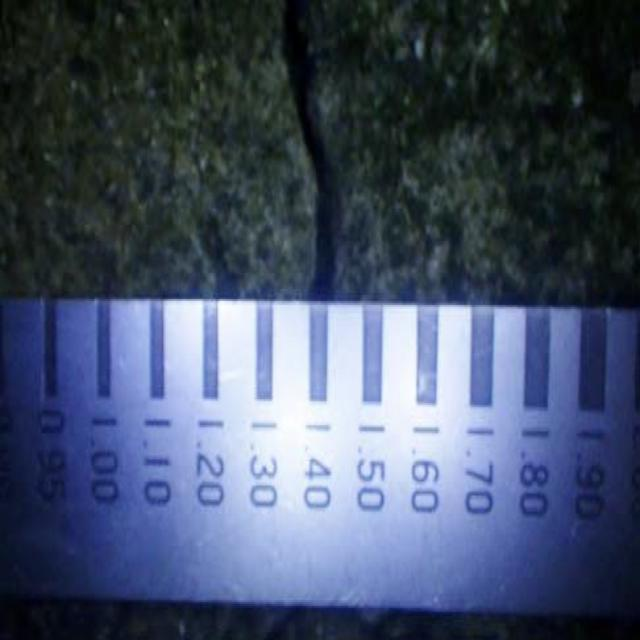crack: (273, 15, 376, 298)
